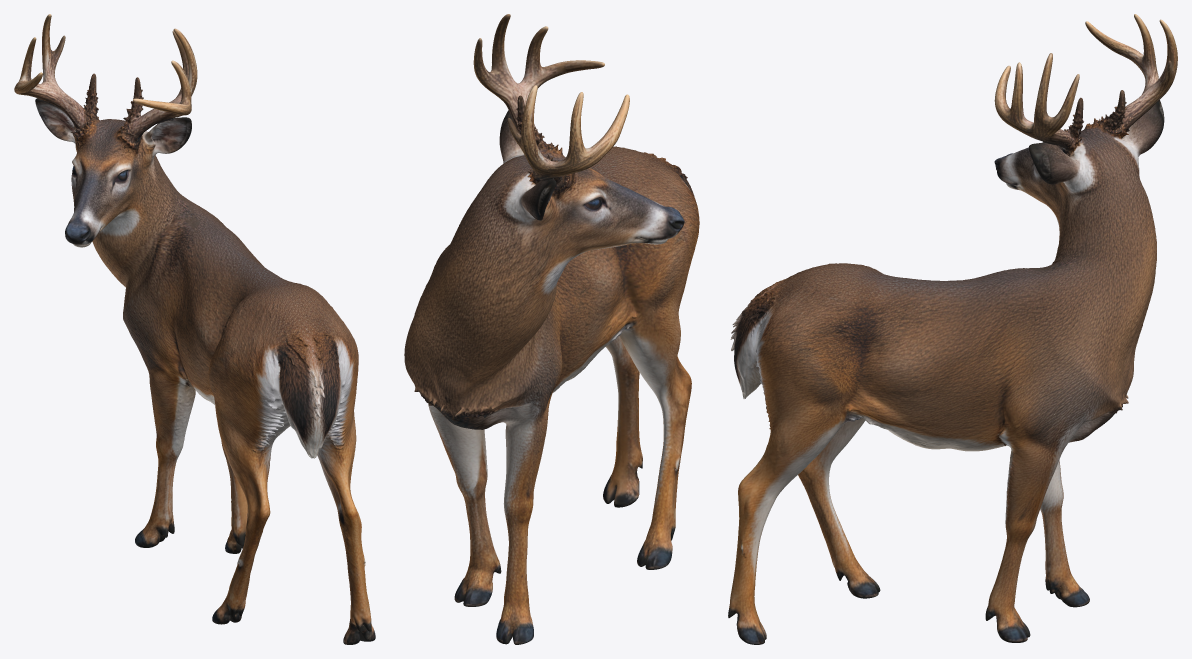
The model's file is male_deer_animal_3d_model_free.glb.
3 views of the same model, side by side, from view 1: azimuth 30°, elevation 25°; view 2: azimuth 150°, elevation 25°; view 3: azimuth 270°, elevation 25° (orthographic). The views are drawn at different scales.
Visible parts, largest first — view 1: mesh_node_0; view 2: mesh_node_0; view 3: mesh_node_0.
Boxes of the visible parts, x1=… form: mesh_node_0: x1=14, y1=14, x2=375, y2=644; mesh_node_0: x1=404, y1=14, x2=699, y2=644; mesh_node_0: x1=728, y1=14, x2=1177, y2=644.
Size of the model in its own units: 0.3991 by 1 by 0.7225.
1 material, 1 textured.
